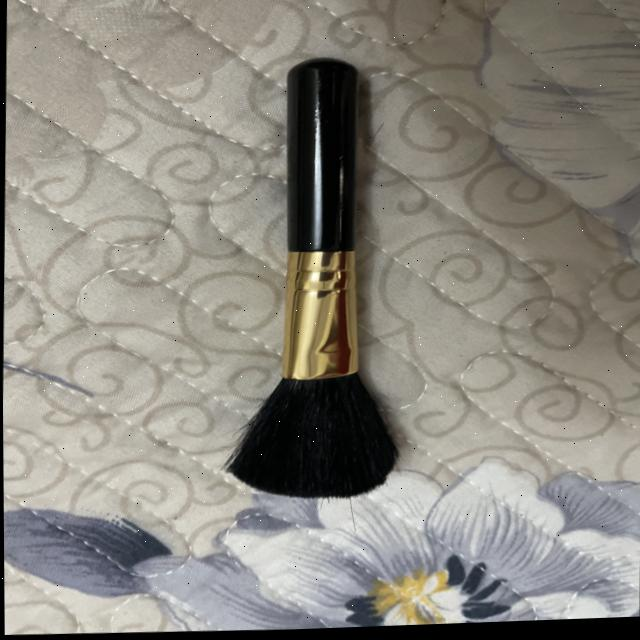brush: (204, 49, 425, 516)
